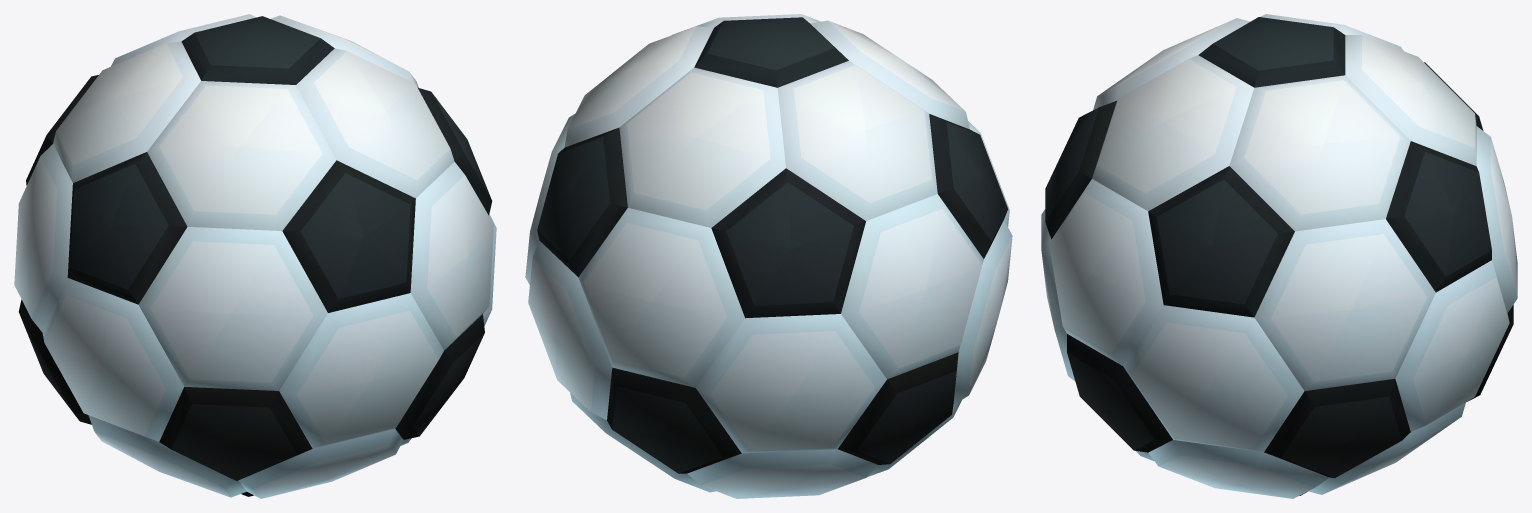
The model's file is fotboll.glb.
3 renders of one model, left to right at view 1: azimuth 30°, elevation 25°; view 2: azimuth 150°, elevation 25°; view 3: azimuth 270°, elevation 25°, orthographic.
Parts seen in each view (by area): view 1: football; view 2: football; view 3: football.
Boxes of the visible parts, left/top/right/bottom form: football: left=14, top=14, right=496, bottom=498; football: left=525, top=14, right=1012, bottom=498; football: left=1041, top=14, right=1517, bottom=498.
Size of the model in its own units: 0.569 by 0.5768 by 0.5665.
Materials: 1 (1 with a texture image).
